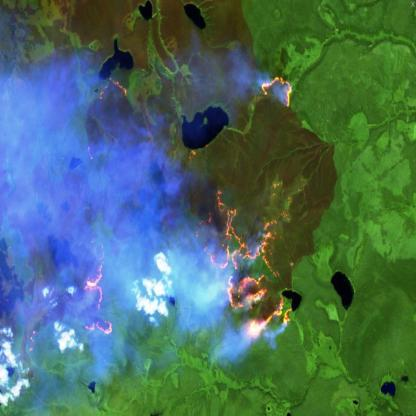fire: (79, 69, 299, 354)
